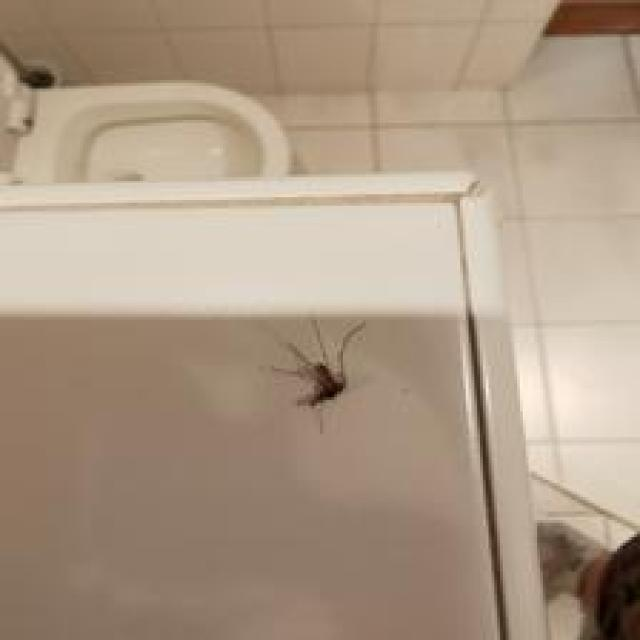Culex: (270, 316, 367, 433)
